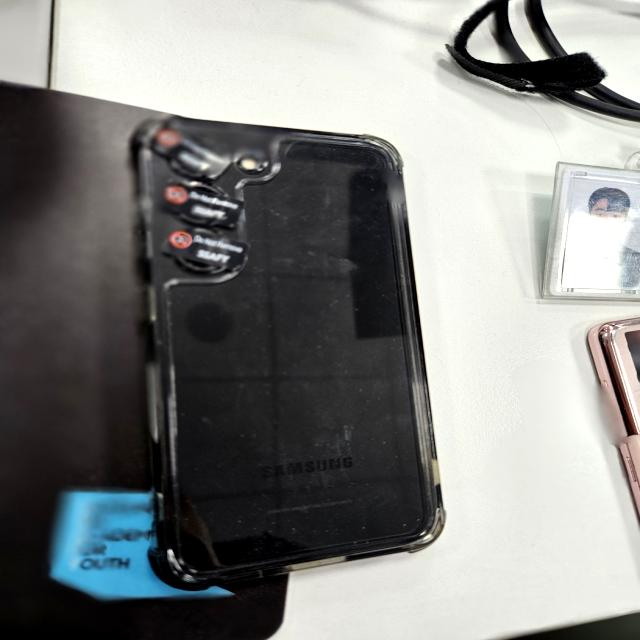phone: (133, 110, 446, 580)
sticker: (151, 122, 233, 184), (151, 179, 243, 230), (158, 228, 252, 276)
